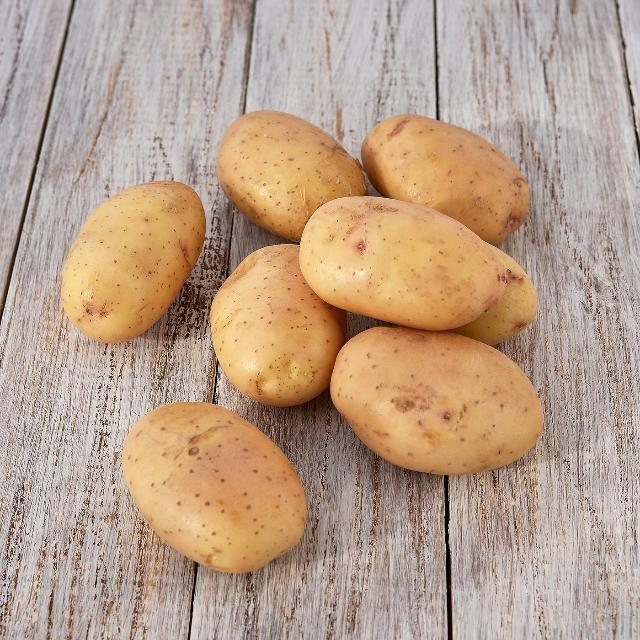Potato: (332, 322, 546, 478), (121, 401, 309, 574), (299, 195, 501, 332), (62, 179, 208, 343), (362, 112, 532, 246), (212, 244, 344, 404), (220, 109, 370, 244)
